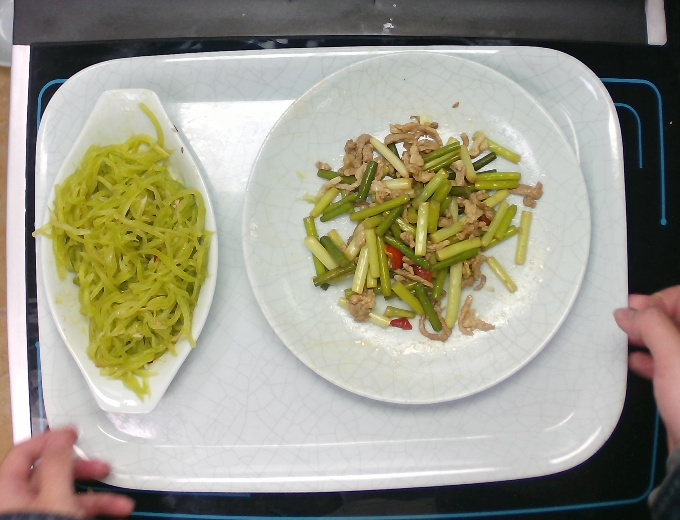JYsf-Da_Yuan_Pan: (237, 50, 595, 411)
JYsf-Yu_Pan: (36, 85, 224, 414)
